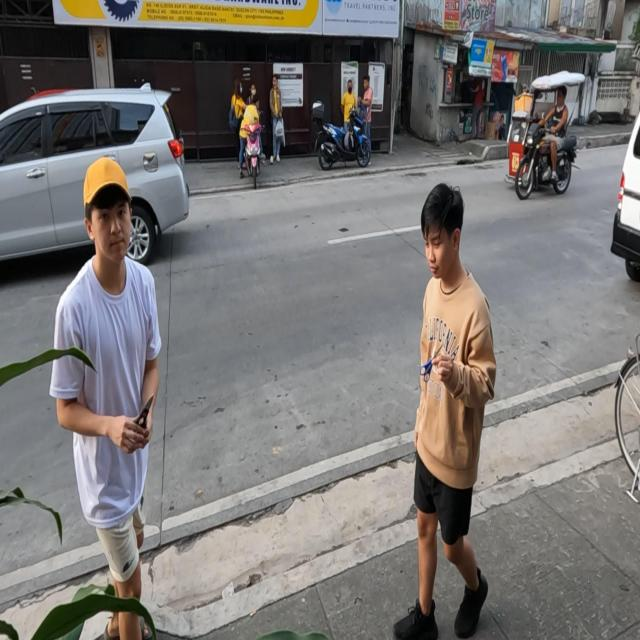scissor: (421, 347, 442, 383), (133, 394, 154, 428)
